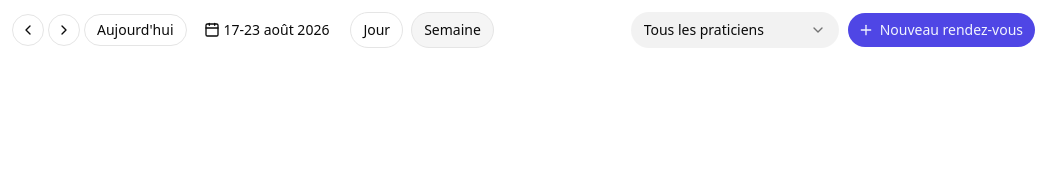
AgendaToolbar — vue et filtre › liste les praticiens du filtre
Click the dropdown named "Filtrer par praticien".
click(735, 30)  # box [631,12,839,48]
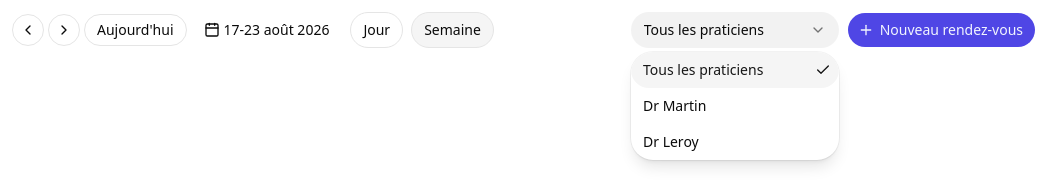
Expected: the text "Dr Martin" is shown, [643,96,706,115]
Expected: the text "Dr Leroy" is shown, [643,132,699,151]
